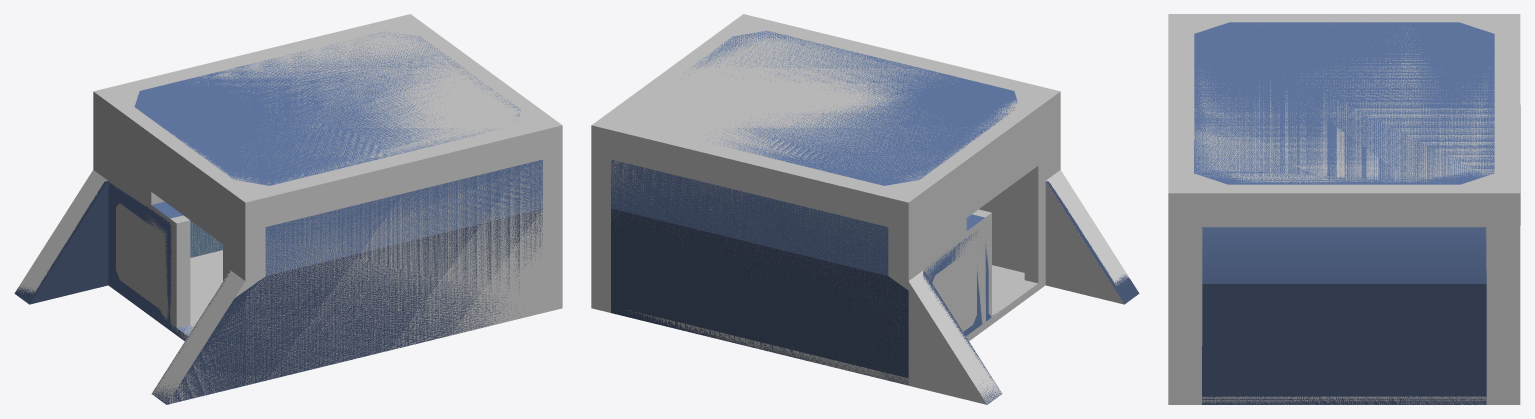
File: SM_Building_18_Base.fbx
The picture shows the model from 3 angles, left to right: view 1: azimuth 30°, elevation 25°; view 2: azimuth 150°, elevation 25°; view 3: azimuth 270°, elevation 25°; orthographic projection. The views are drawn at different scales.
Visible parts, largest first — view 1: SM_Building_18_Base_ConvexHulls, SM_Building_18_Base; view 2: SM_Building_18_Base_ConvexHulls, SM_Building_18_Base; view 3: SM_Building_18_Base, SM_Building_18_Base_ConvexHulls.
Part boxes in pixels (box(x1,y1,x2,y2)): SM_Building_18_Base_ConvexHulls: box(16, 14, 562, 403); SM_Building_18_Base: box(14, 32, 542, 404); SM_Building_18_Base_ConvexHulls: box(591, 14, 1129, 404); SM_Building_18_Base: box(611, 31, 1139, 404); SM_Building_18_Base: box(1194, 22, 1494, 404); SM_Building_18_Base_ConvexHulls: box(1168, 14, 1520, 404).
Size of the model in its own units: 906 by 603 by 400.
2 materials, 1 textured.
